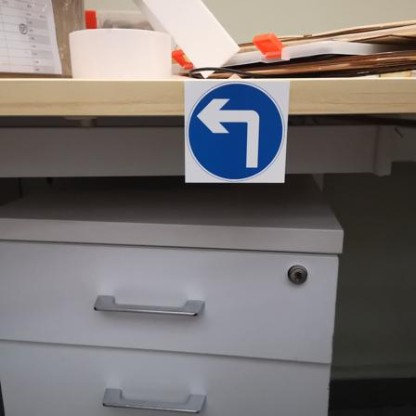left: (176, 75, 292, 184)
